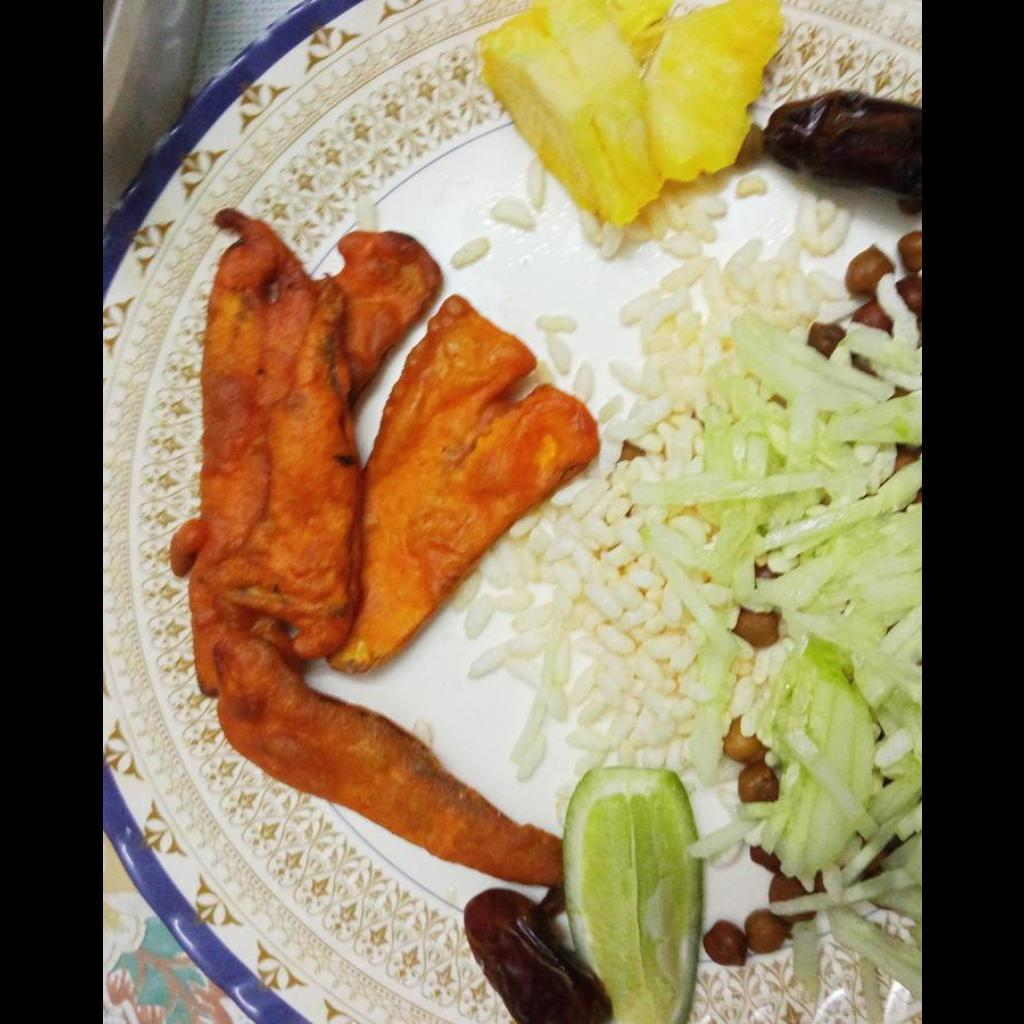beguni: (172, 220, 597, 882)
cucumber: (621, 315, 920, 991)
dates: (463, 890, 609, 1023), (762, 91, 920, 213)
lemon: (569, 761, 718, 1017)
pineapple: (465, 2, 793, 222)
